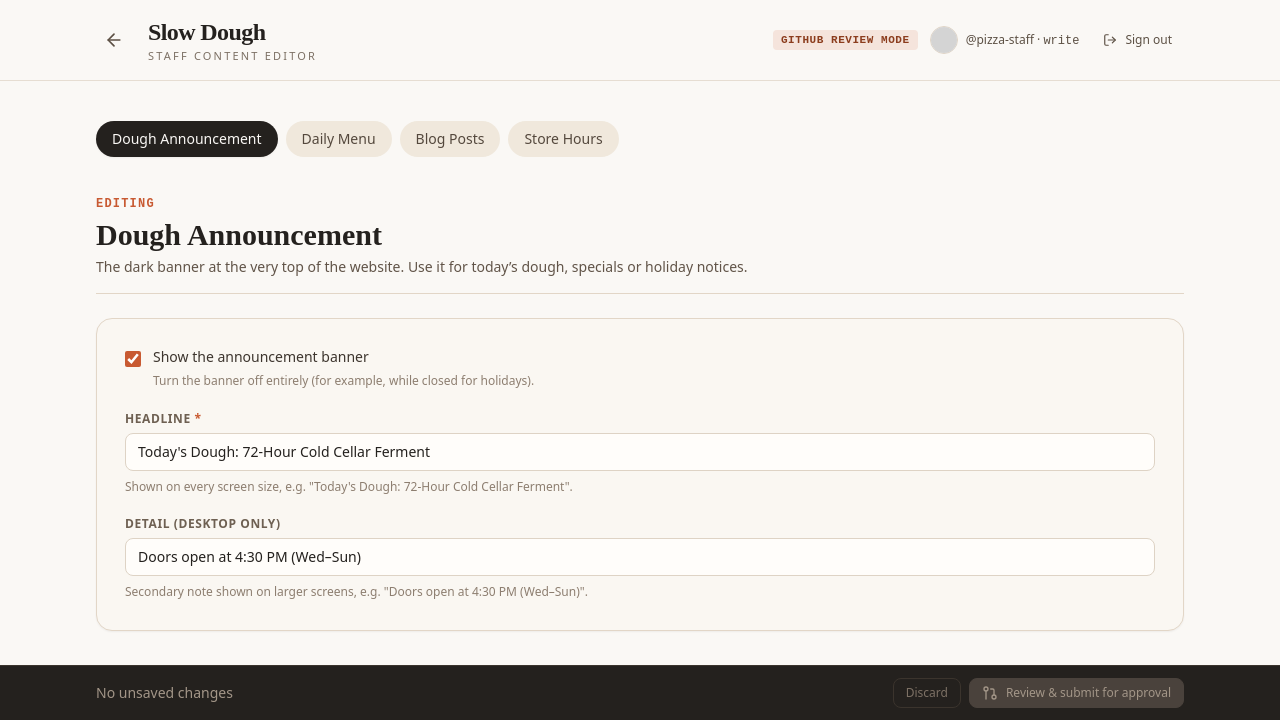
EditorApp – collapsible layout › opens the menu with the heading group collapsed (summary shown) and categories visible
Click the button "Daily Menu" at (339, 139), box [286,121,392,157]
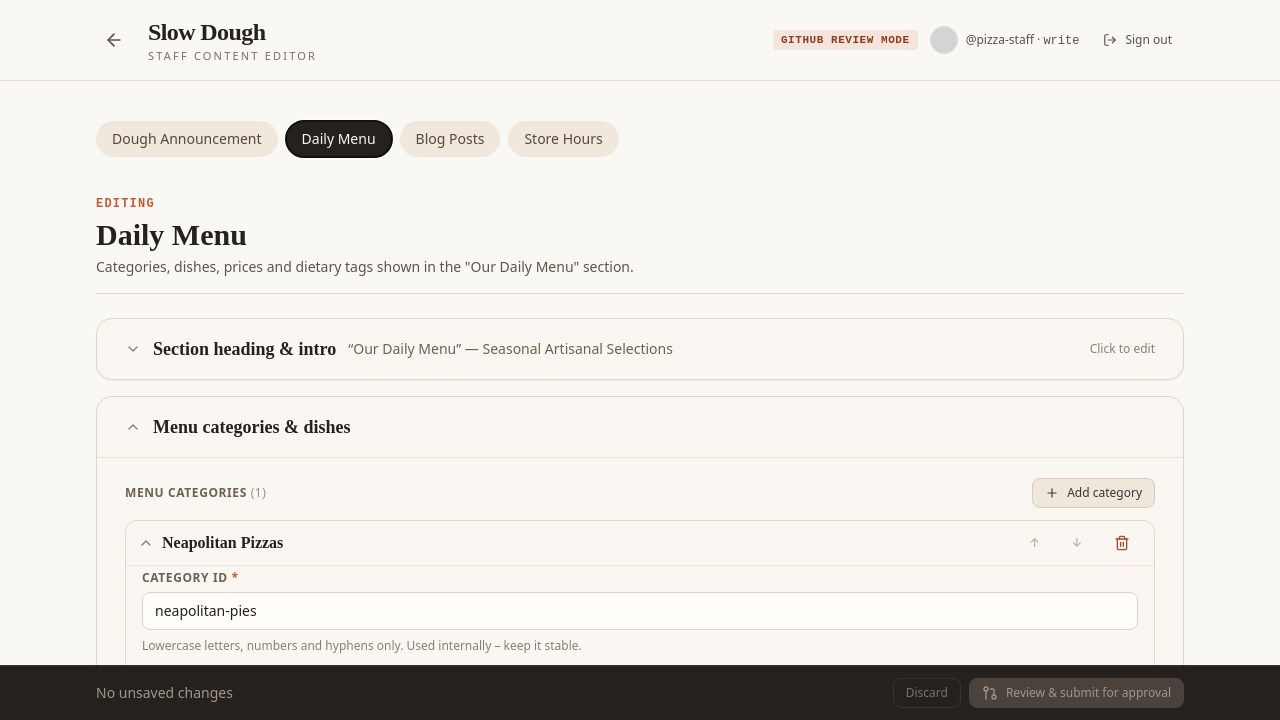
Expected: the button "Section heading & intro" shows "“Our Daily Menu”"
Expected: the text "Menu categories & dishes" is shown, [153,413,350,441]
Click the button "Section heading & intro" at (640, 349), box [97,319,1183,379]
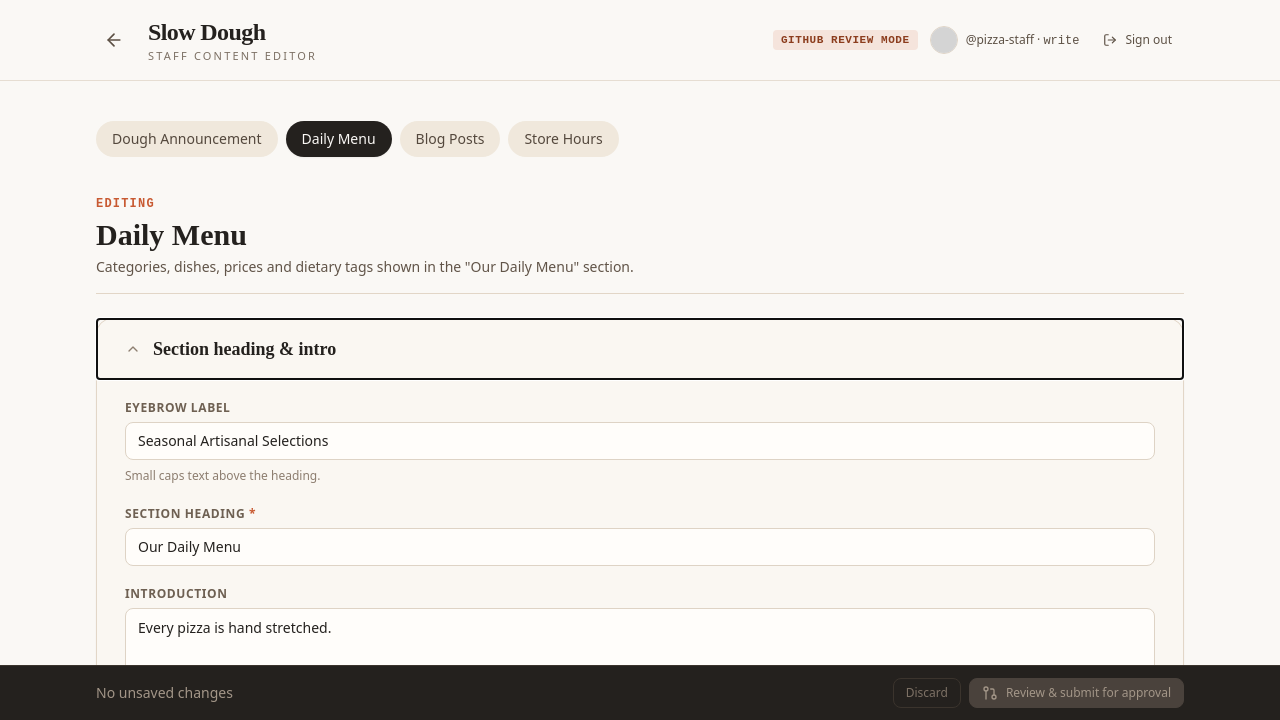
Expected: the field labelled "Section heading *" holds "Our Daily Menu", [125,528,1155,566]
